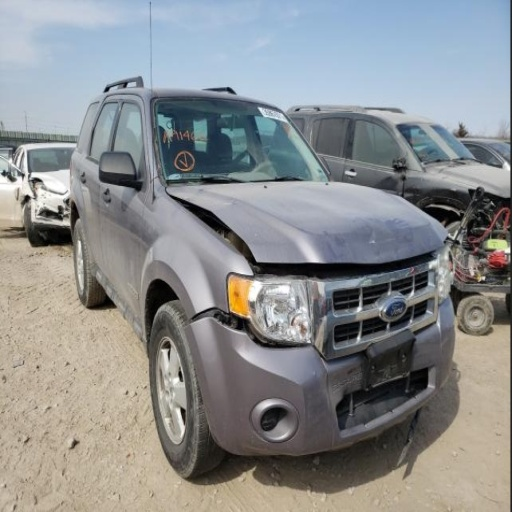dent: (323, 331, 431, 418), (329, 217, 416, 264)
scratch: (366, 237, 381, 247)
